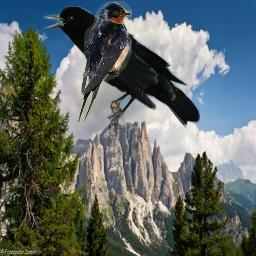Crow: (43, 6, 200, 131)
Swallow: (75, 1, 132, 123)
